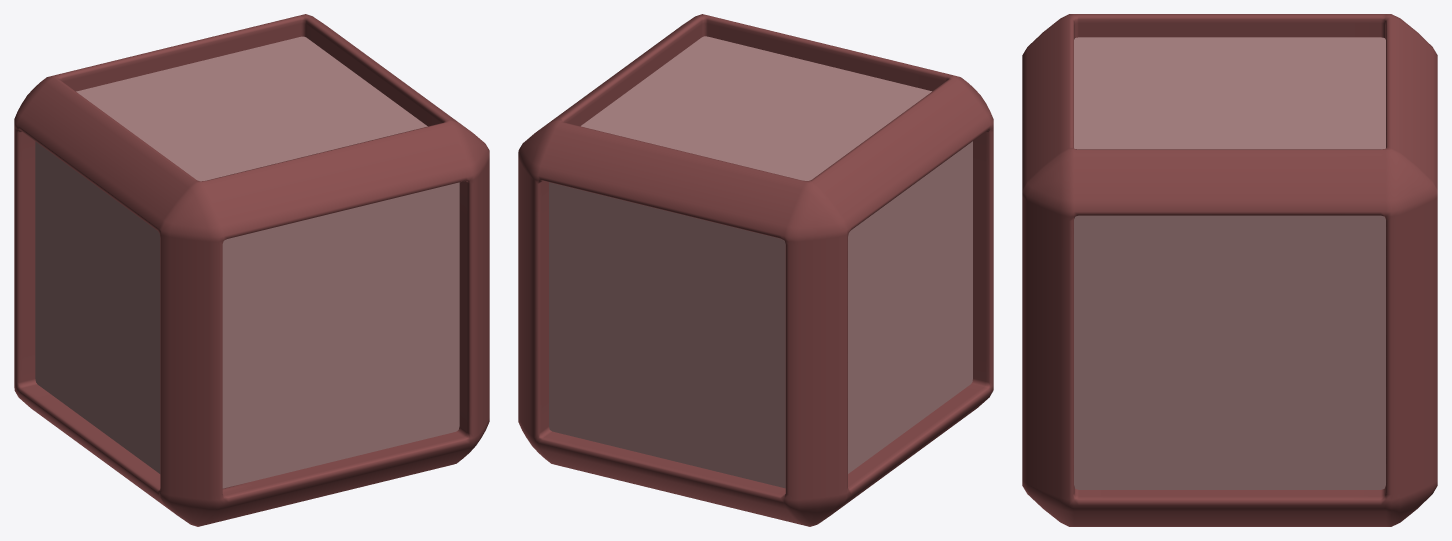
The model's file is crate.fbx.
3 views of the same model, side by side, from view 1: azimuth 30°, elevation 25°; view 2: azimuth 150°, elevation 25°; view 3: azimuth 270°, elevation 25° (orthographic). The views are drawn at different scales.
Visible parts, largest first — view 1: polySurface2; view 2: polySurface2; view 3: polySurface2.
Part boxes in pixels (left/top/right/bottom): polySurface2: left=14, top=14, right=489, bottom=526; polySurface2: left=518, top=14, right=993, bottom=526; polySurface2: left=1022, top=14, right=1437, bottom=526.
Size of the model in its own units: 60 by 60 by 60.
